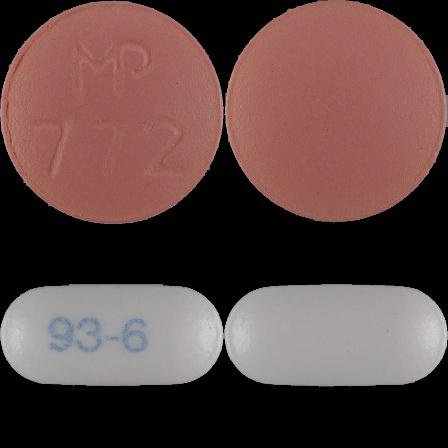55289-306: (0, 0, 224, 224)
